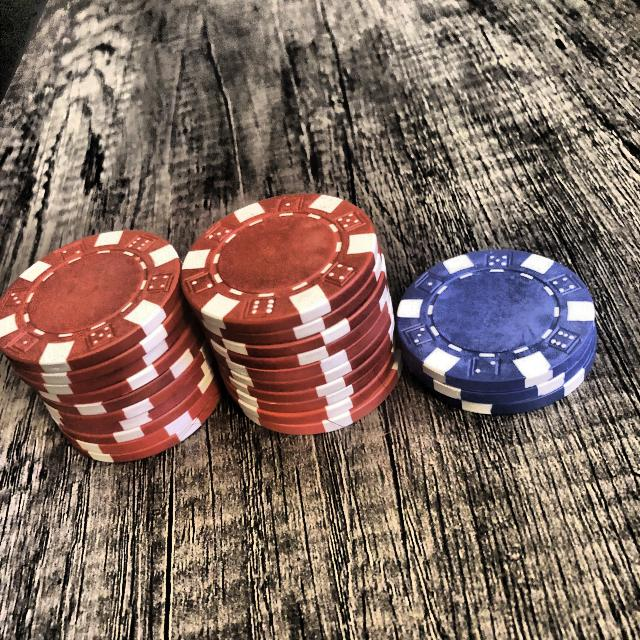Chip: (180, 190, 399, 432), (2, 226, 216, 466), (394, 244, 602, 419)
